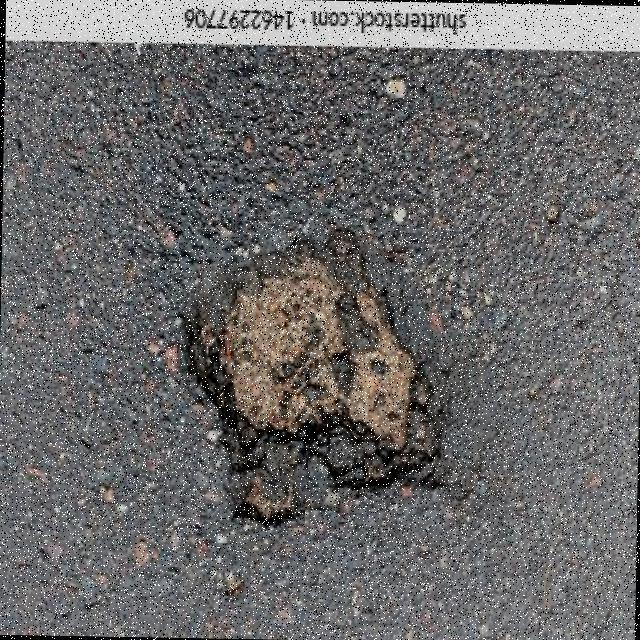Pothole: (175, 227, 440, 524)
